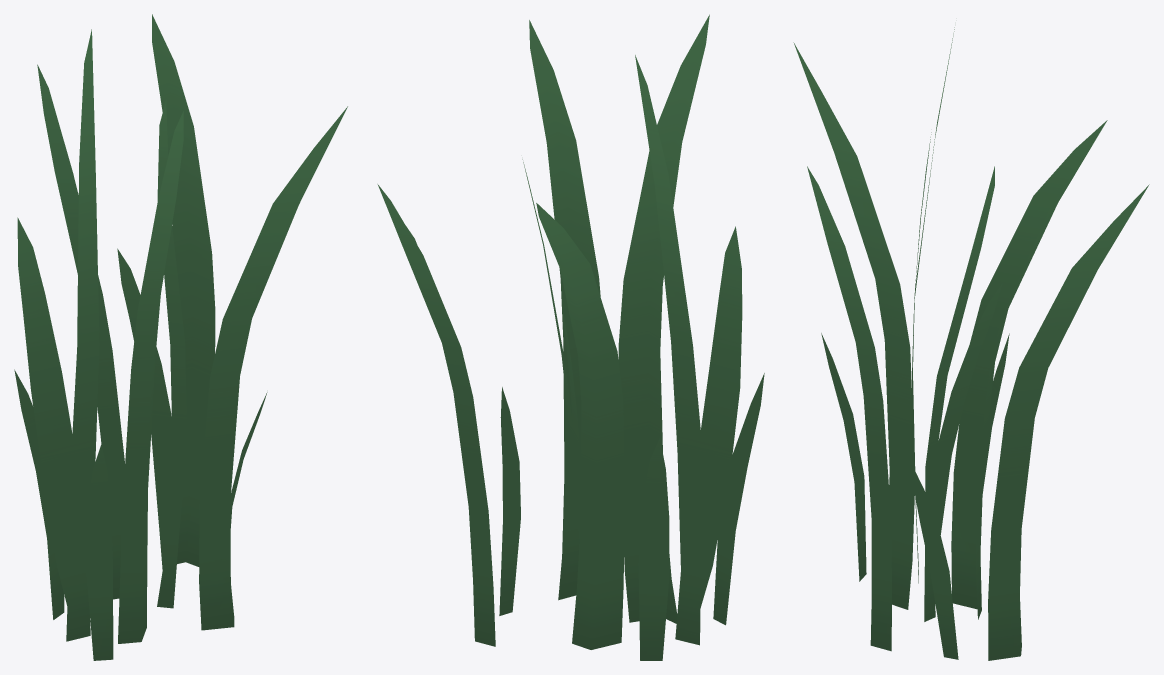
File: MeadowGrass.glb
3 renders of one model, left to right at view 1: azimuth 30°, elevation 25°; view 2: azimuth 150°, elevation 25°; view 3: azimuth 270°, elevation 25°, orthographic. The views are drawn at different scales.
Visible parts, largest first — view 1: RF_MeadowGrass_00_LeafGreen; view 2: RF_MeadowGrass_00_LeafGreen; view 3: RF_MeadowGrass_00_LeafGreen.
Part boxes in pixels (bbox=[...]): RF_MeadowGrass_00_LeafGreen: bbox=[14, 14, 347, 660]; RF_MeadowGrass_00_LeafGreen: bbox=[377, 14, 764, 660]; RF_MeadowGrass_00_LeafGreen: bbox=[793, 27, 1149, 660].
Bounding box in the file's own units: 0.6465 × 1.35 × 0.7461.
1 material, 1 textured.
